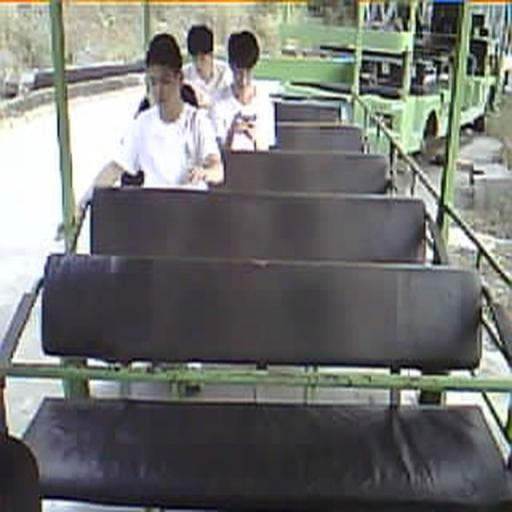persona: (119, 32, 225, 190), (210, 29, 276, 152), (126, 32, 198, 119), (180, 23, 236, 109)
